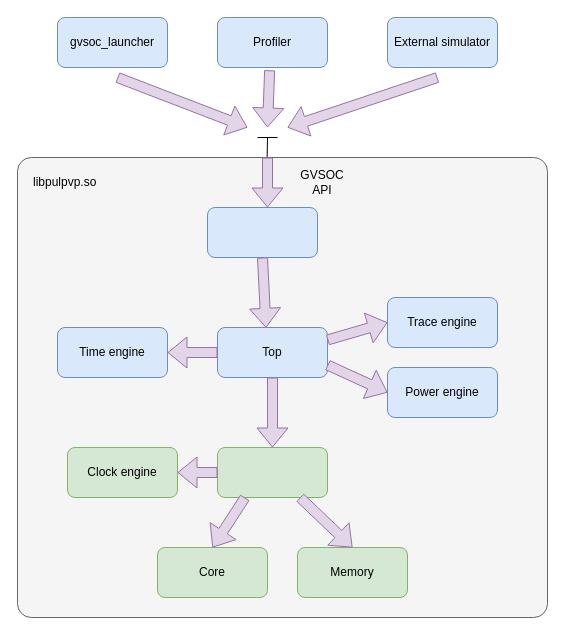
Image size: 565x635. Some labels were removed from this diagram. Here are the shapes that lost their labels. From the top down, the centre of each, then its label:
At point (262, 232): "Launcher".
At point (272, 472): "Chip".
